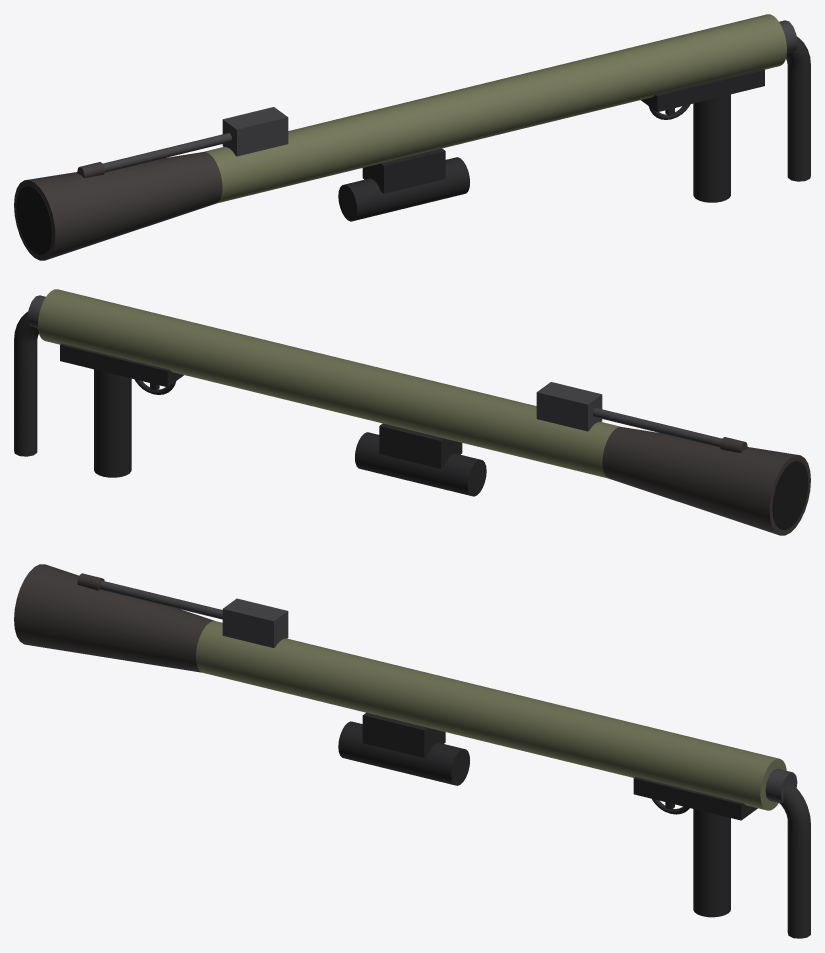
The model's file is flamethrower_wand.glb.
3 renders of one model, top to bottom at view 1: azimuth 30°, elevation 25°; view 2: azimuth 150°, elevation 25°; view 3: azimuth 330°, elevation 25°, orthographic.
Visible parts, largest first — view 1: body_pipe, nozzle, pistol_grip, fore_grip, hose, ignition_box, fore_mount, grip_mount, nozzle_bore, ignition_tube; view 2: body_pipe, nozzle, pistol_grip, fore_grip, hose, ignition_box, fore_mount, grip_mount, nozzle_bore, ignition_tube; view 3: body_pipe, nozzle, pistol_grip, fore_grip, hose, ignition_box, fore_mount, grip_mount, ignition_tube, hose_fitting.
Boxes of the visible parts, x1,y1,x2,y2 form: body_pipe: (204, 14, 786, 203); nozzle: (14, 152, 222, 260); pistol_grip: (693, 94, 730, 202); fore_grip: (338, 157, 469, 221); hose: (786, 36, 810, 181); ignition_box: (222, 107, 288, 156); fore_mount: (362, 148, 445, 193); grip_mount: (641, 68, 764, 112); nozzle_bore: (16, 186, 52, 255); ignition_tube: (103, 133, 231, 172); body_pipe: (38, 289, 620, 478); nozzle: (602, 427, 810, 535); pistol_grip: (94, 369, 131, 477); fore_grip: (355, 432, 486, 496); hose: (14, 311, 38, 456); ignition_box: (536, 382, 602, 431); fore_mount: (379, 423, 462, 468); grip_mount: (60, 343, 183, 387); nozzle_bore: (772, 461, 808, 530); ignition_tube: (593, 408, 721, 447); body_pipe: (196, 621, 786, 810); nozzle: (14, 564, 215, 672); pistol_grip: (693, 809, 730, 917); fore_grip: (338, 721, 469, 785); hose: (779, 783, 810, 938); ignition_box: (222, 598, 288, 647); fore_mount: (362, 712, 445, 757); grip_mount: (633, 776, 757, 820); ignition_tube: (99, 580, 222, 619); hose_fitting: (765, 768, 797, 802).
Size of the model in its own units: 0.755 by 0.178 by 0.07.
